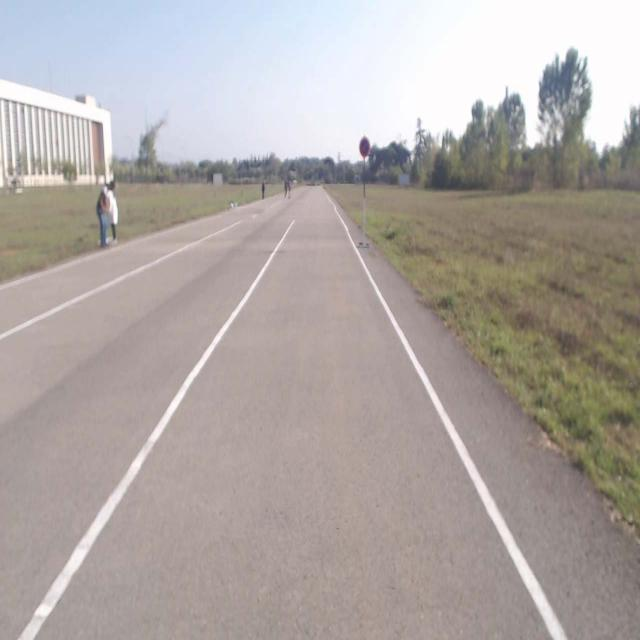parkyasak: (360, 139, 370, 157)
